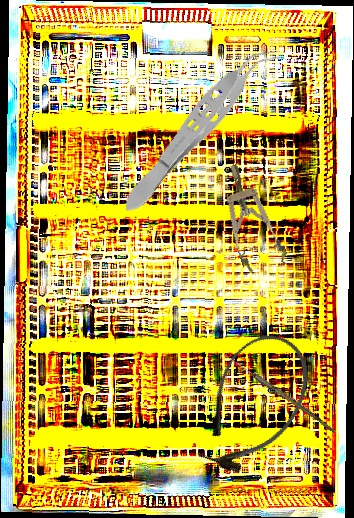Cannula: (180, 319, 327, 489)
Speculum: (212, 157, 290, 277)
Surgical Spoon: (222, 353, 338, 433)
Tissue Forceps: (112, 31, 287, 223)
